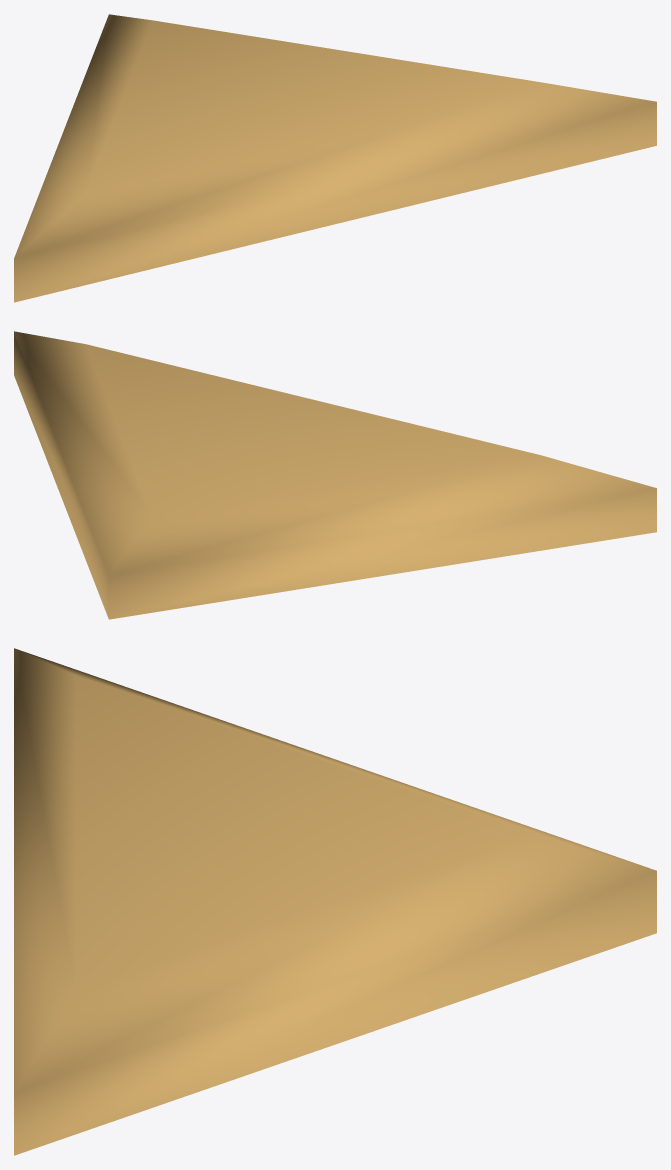
The model's file is arrow 1.fbx.
3 views of the same model, one above another, from view 1: azimuth 30°, elevation 25°; view 2: azimuth 150°, elevation 25°; view 3: azimuth 270°, elevation 25° (orthographic). The views are drawn at different scales.
Parts seen in each view (by area): view 1: Plane; view 2: Plane; view 3: Plane.
Boxes of the visible parts, x1,y1,x2,y2 form: Plane: [14, 14, 656, 302]; Plane: [14, 331, 656, 619]; Plane: [14, 648, 656, 1155].
Bounding box in the file's own units: 2.9 × 0.3024 × 1.77.
